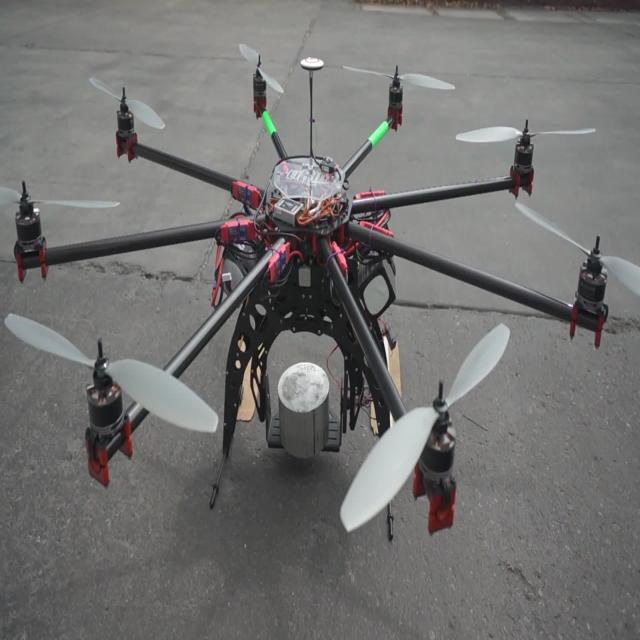drone: (9, 38, 618, 580)
